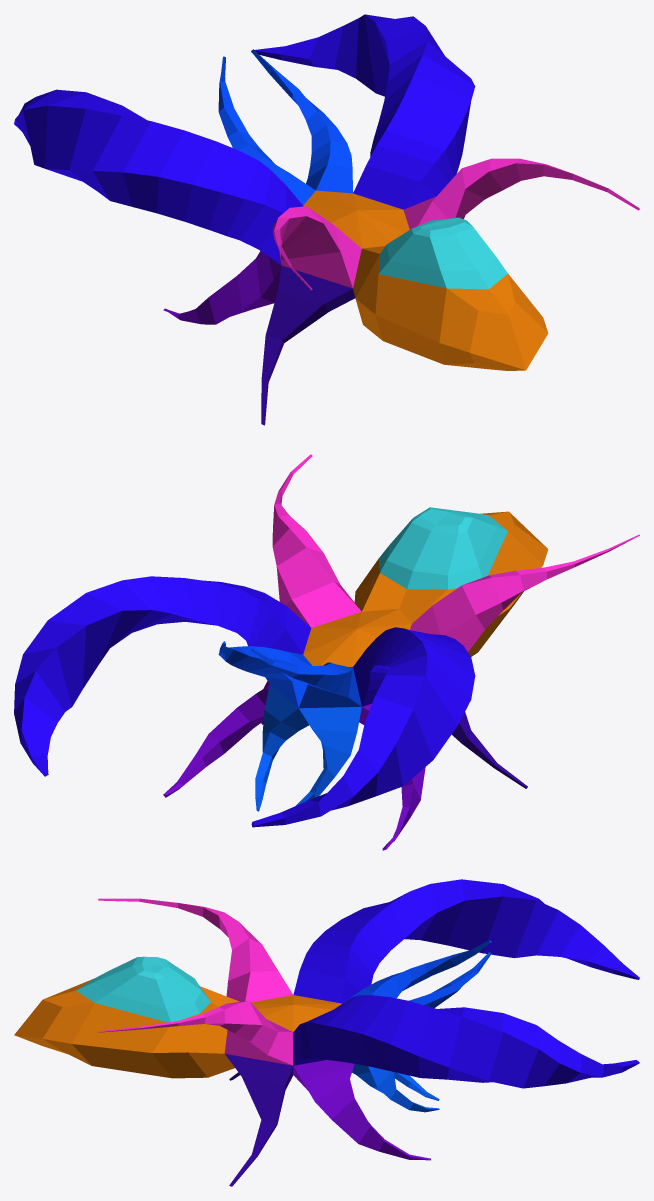
File: Tremper.fbx
3 views of the same model, one above another, from view 1: azimuth 30°, elevation 25°; view 2: azimuth 150°, elevation 25°; view 3: azimuth 270°, elevation 25° (orthographic). The views are drawn at different scales.
Parts seen in each view (by area): view 1: Sphere.001; view 2: Sphere.001; view 3: Sphere.001.
Part boxes in pixels (x1,y1,x2,y2): Sphere.001: [14, 14, 639, 425]; Sphere.001: [14, 454, 639, 850]; Sphere.001: [14, 879, 639, 1186].
Bounding box in the file's own units: 3136 × 1750 × 5287.
